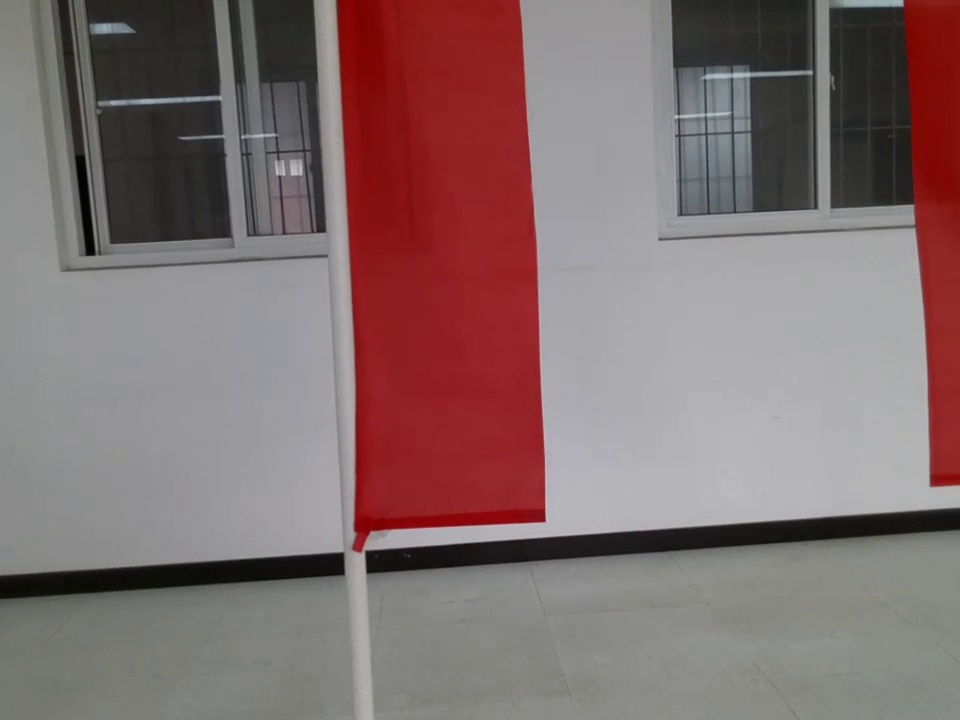qi: (310, 1, 558, 563), (896, 1, 960, 499)
